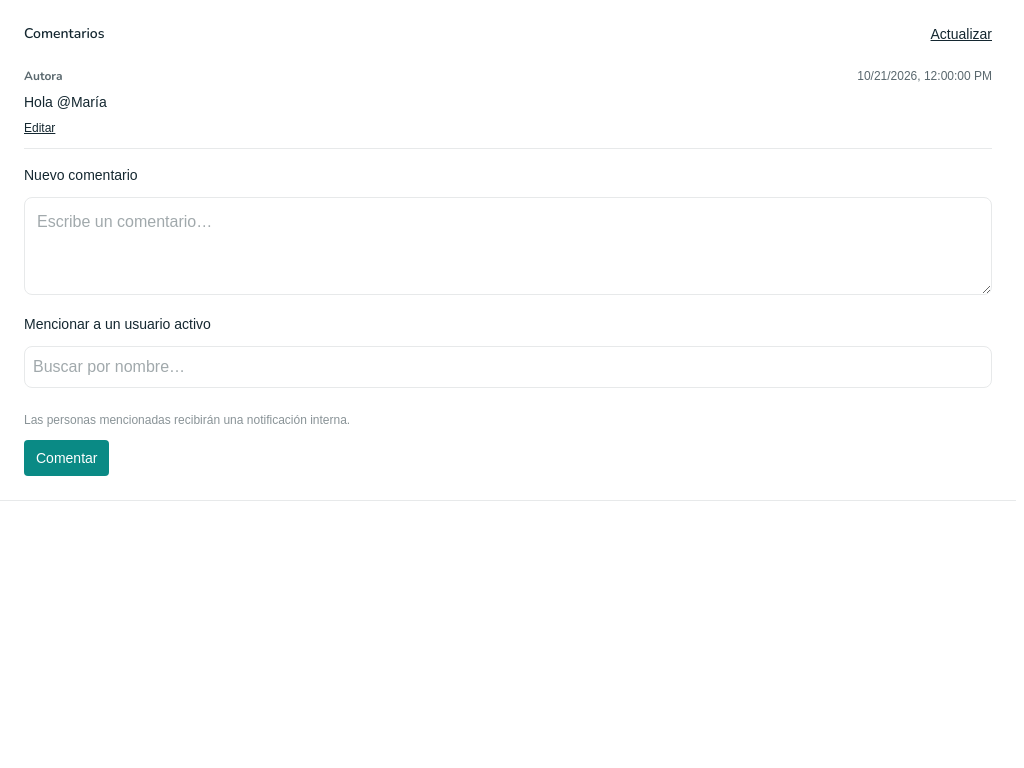
Test: comentarios de tickets › mantiene el borrador y muestra el error si no se pudo guardar
In the text box labelled "Nuevo comentario": [508, 246] box [24,197,992,295], type "No perder este texto"
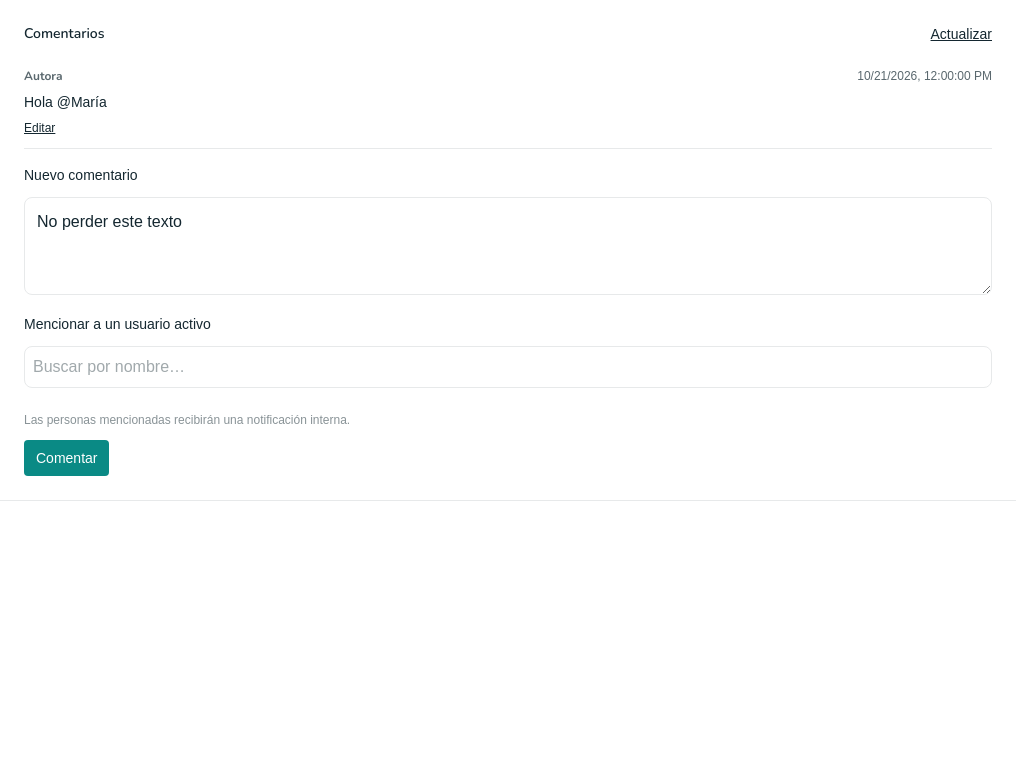
Submit the form, box [24,165,992,476]
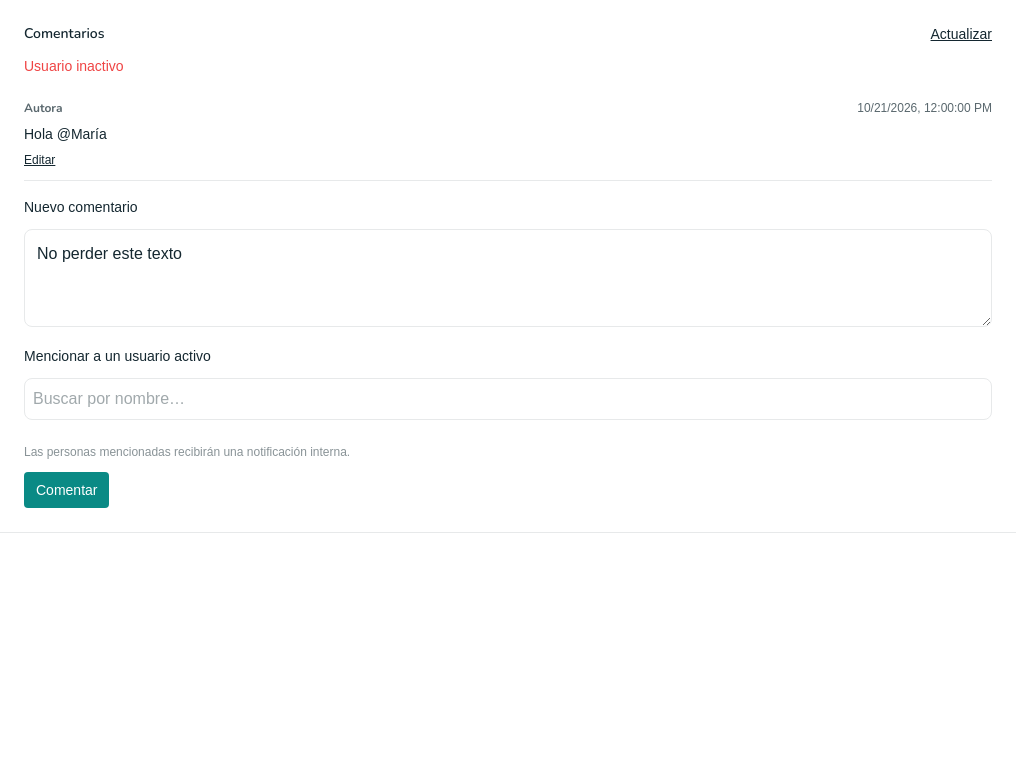
Expected: the message "Usuario inactivo" is shown, [24,58,124,74]
